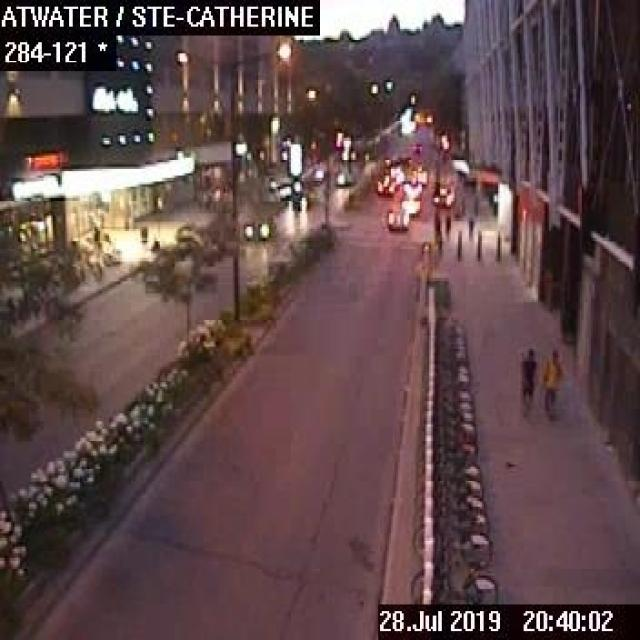pedestrian: (540, 347, 560, 413), (516, 344, 534, 406), (466, 214, 474, 241), (443, 212, 449, 238)
vehicle: (241, 215, 271, 240), (384, 207, 406, 230), (288, 189, 308, 210), (400, 194, 420, 214), (430, 186, 450, 205), (376, 174, 394, 194)
